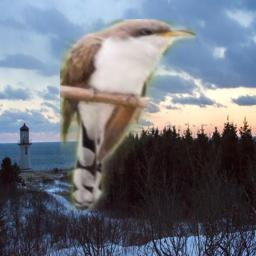Cuckoo: (60, 19, 196, 211)
